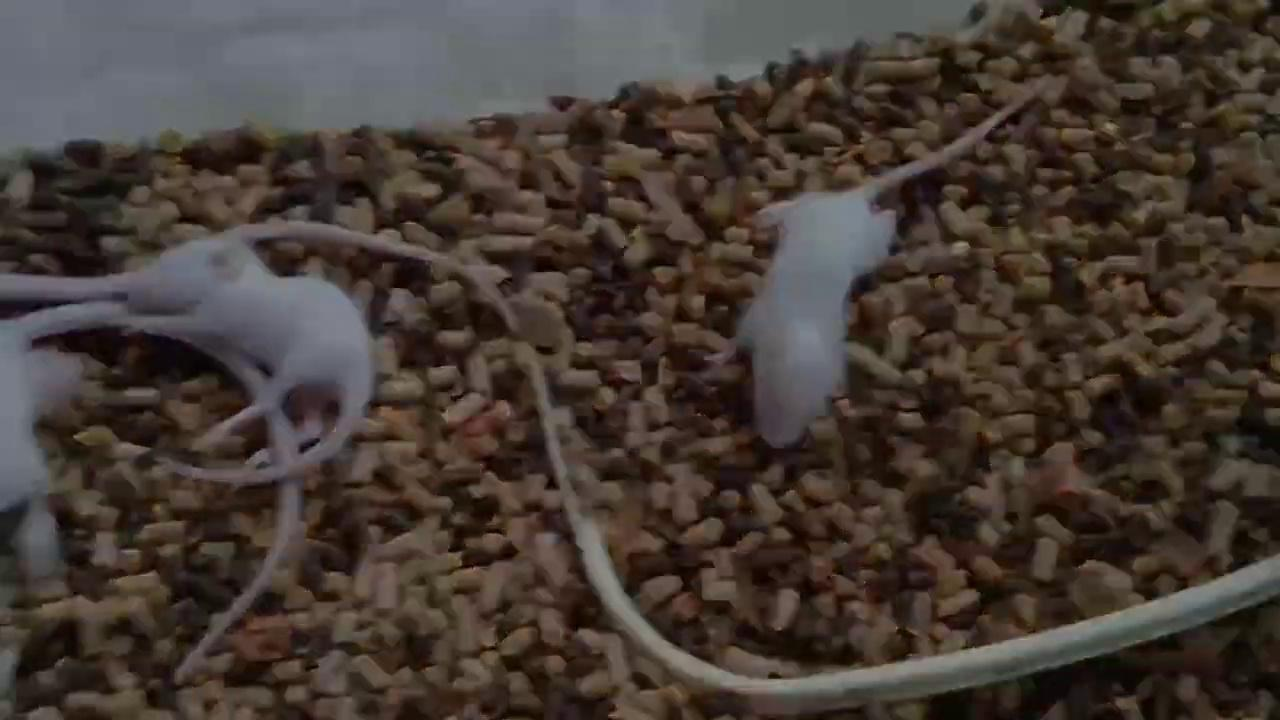rat: (706, 78, 1042, 450), (122, 237, 372, 484)
